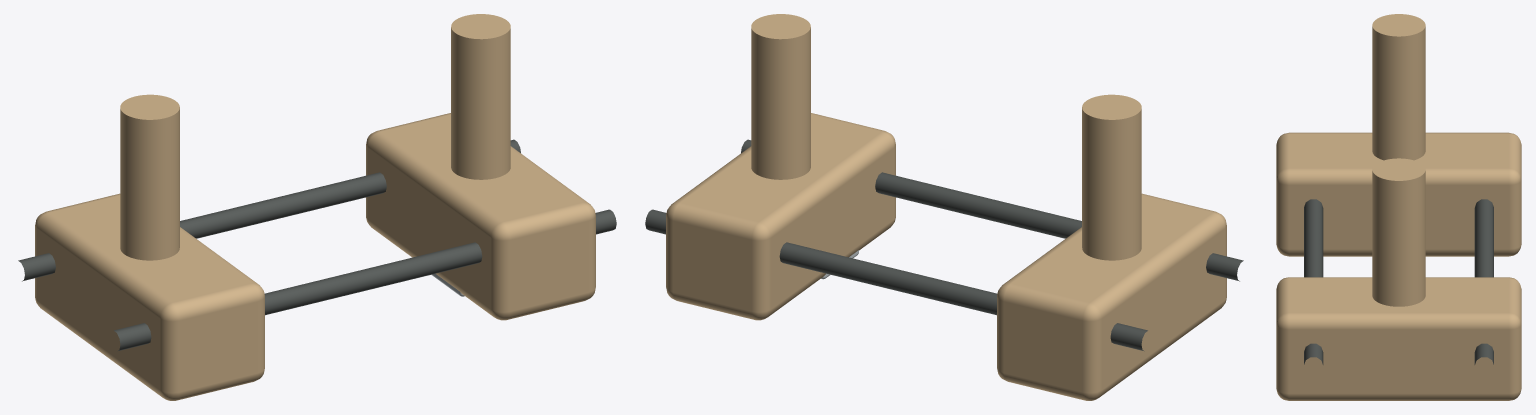
Rendered from bookbinding-and-paper-mill-book-plough-42445c2e__30561.glb.
The picture shows the model from 3 angles, left to right: view 1: azimuth 30°, elevation 25°; view 2: azimuth 150°, elevation 25°; view 3: azimuth 270°, elevation 25°; orthographic projection. The views are drawn at different scales.
Visible parts, largest first — view 1: book-plough; view 2: book-plough; view 3: book-plough.
Part boxes in pixels (<box>): book-plough: <box>18,14,616,400</box>; book-plough: <box>645,14,1243,400</box>; book-plough: <box>1276,14,1521,400</box>.
Bounding box in the file's own units: 0.48 × 0.22 × 0.23.
